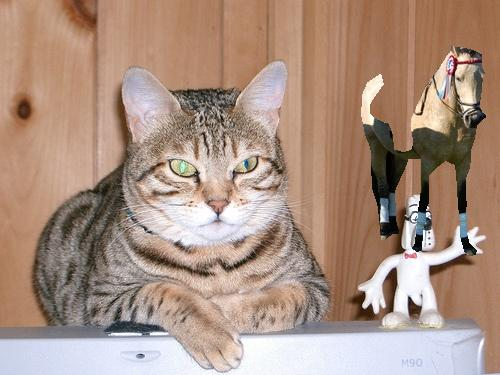tampered: (362, 46, 486, 256)
